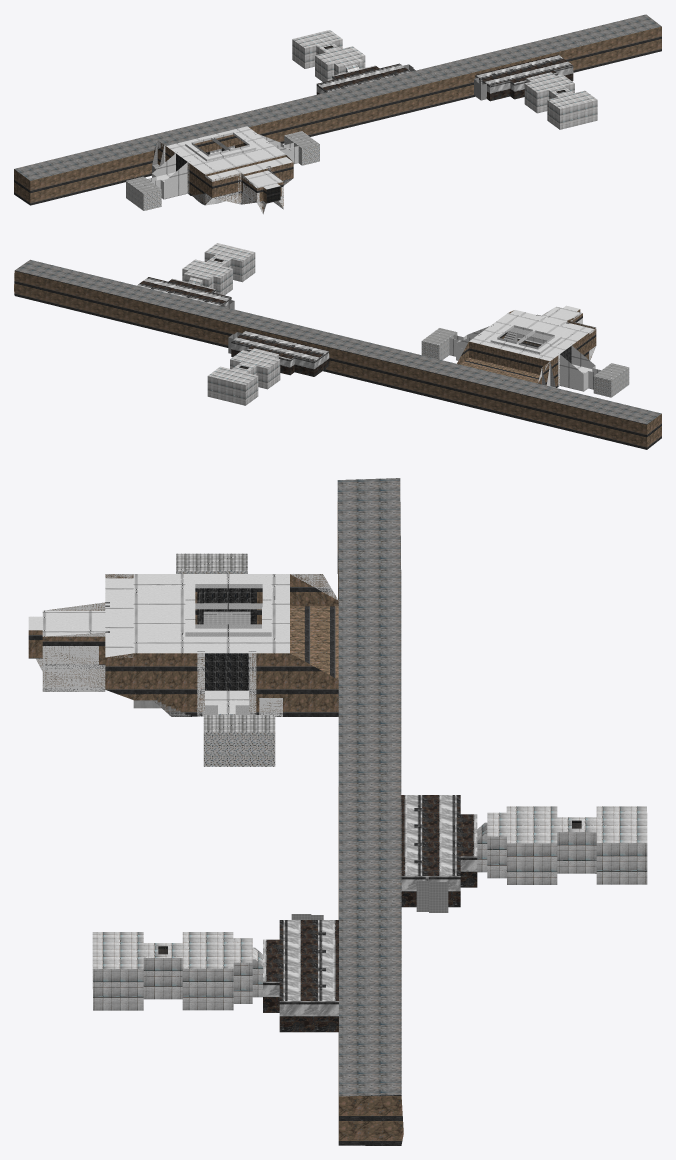
The model's file is subway.FBX.
3 renders of one model, top to bottom at view 1: azimuth 30°, elevation 25°; view 2: azimuth 150°, elevation 25°; view 3: azimuth 270°, elevation 25°, orthographic. The views are drawn at different scales.
Visible parts, largest first — view 1: metro_line, subway, station2, station1; view 2: metro_line, subway, station1, station2; view 3: subway, metro_line, station1, station2.
Part boxes in pixels (x1,y1,x2,y2): metro_line: [14, 14, 661, 205]; subway: [126, 126, 319, 214]; station2: [474, 54, 597, 129]; station1: [292, 30, 415, 94]; metro_line: [14, 259, 661, 449]; subway: [421, 305, 629, 397]; station1: [207, 330, 329, 405]; station2: [137, 243, 255, 309]; subway: [28, 553, 338, 766]; metro_line: [337, 478, 403, 1145]; station1: [401, 795, 647, 912]; station2: [92, 914, 338, 1032].
Size of the model in its own units: 25422 by 10774 by 1627.
